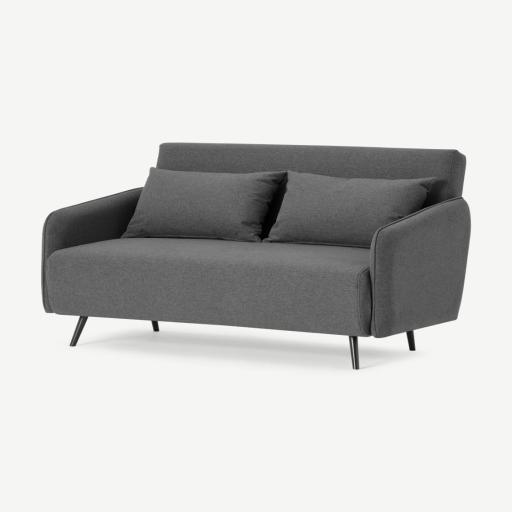back_cushion: (122, 143, 465, 248)
left_arm: (369, 198, 470, 350)
legs: (70, 317, 87, 346), (349, 336, 359, 369), (407, 331, 415, 351), (152, 321, 159, 331)
right_arm: (42, 189, 141, 312)
seat_cushion: (45, 238, 371, 335)
two-seater: (0, 0, 511, 512)
